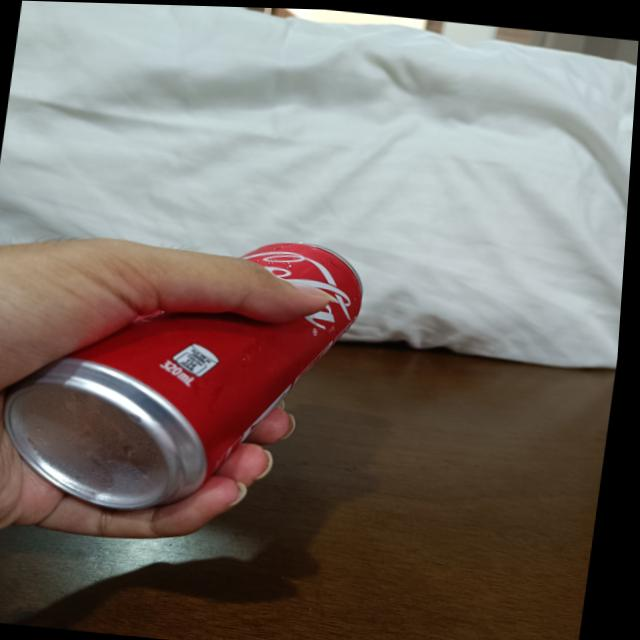coke: (9, 220, 371, 528)
